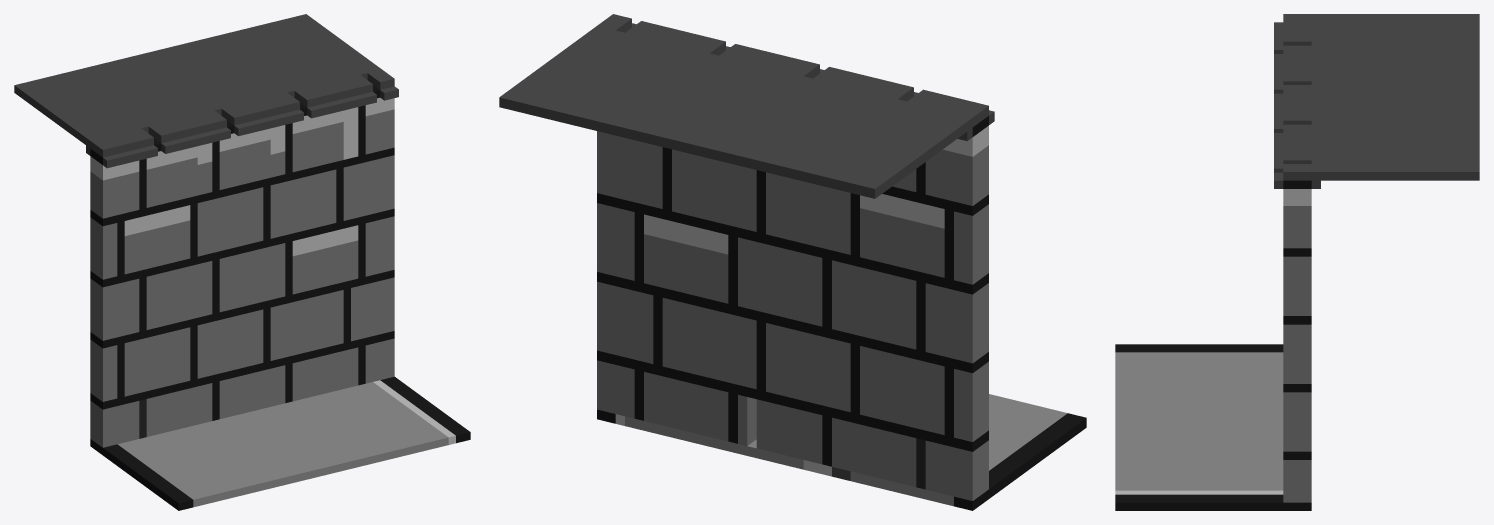
The model's file is wall.obj.
The picture shows the model from 3 angles, left to right: view 1: azimuth 30°, elevation 25°; view 2: azimuth 150°, elevation 25°; view 3: azimuth 270°, elevation 25°; orthographic projection. The views are drawn at different scales.
Parts seen in each view (by area): view 1: wall; view 2: wall; view 3: wall.
Part boxes in pixels (x1=…): wall: x1=14, y1=14, x2=470, y2=510; wall: x1=499, y1=14, x2=1086, y2=510; wall: x1=1115, y1=14, x2=1479, y2=510.
Size of the model in its own units: 40 by 40 by 39.
Materials: 1 (1 with a texture image).
